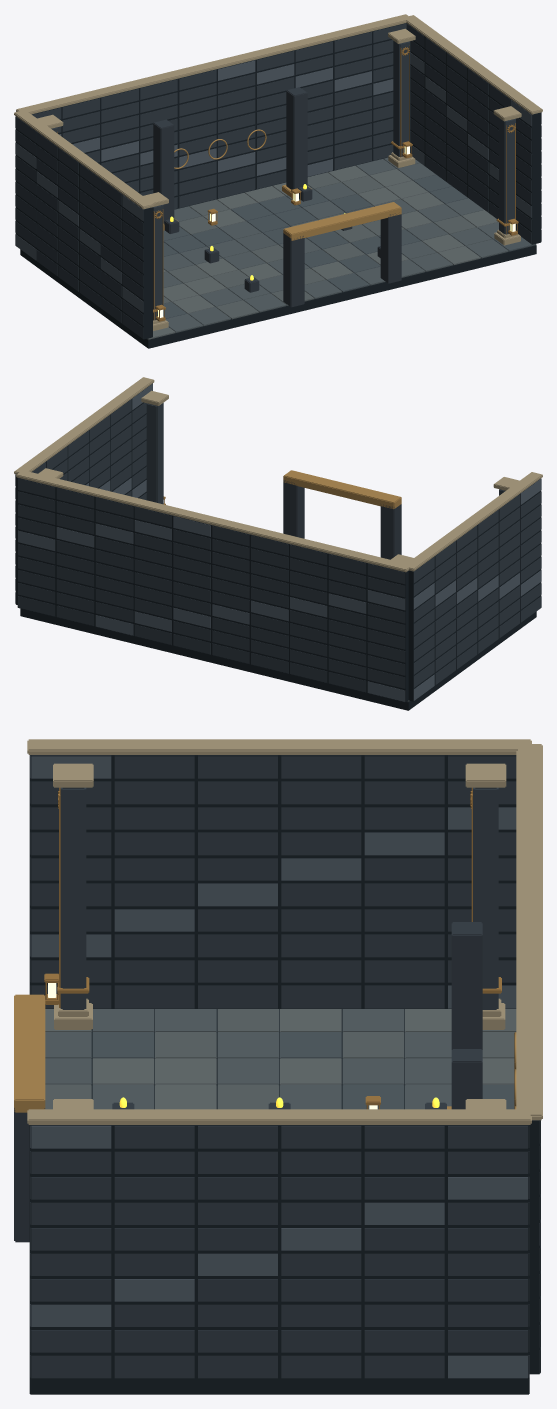
Rendered from sanctum-static-v02.glb.
3 views of the same model, one above another, from view 1: azimuth 30°, elevation 25°; view 2: azimuth 150°, elevation 25°; view 3: azimuth 270°, elevation 25° (orthographic). The views are drawn at different scales.
Visible parts, largest first — view 1: sanctum-static-v02 Basalt • charcoal, sanctum-static-v02 Recesses and grout, sanctum-static-v02 Floor stone 0, sanctum-static-v02 Ash stone • warm trim, sanctum-static-v02 Basalt • blue grey bevels, sanctum-static-v02 Floor stone 2, sanctum-static-v02 Guardian charcoal robe, sanctum-static-v02 Floor stone 3, sanctum-static-v02 Floor stone 1, sanctum-static-v02 Guardian aged bronze, sanctum-static-v02 Bronze • forged warm; view 2: sanctum-static-v02 Basalt • charcoal, sanctum-static-v02 Recesses and grout, sanctum-static-v02 Basalt • blue grey bevels, sanctum-static-v02 Ash stone • warm trim, sanctum-static-v02 Guardian charcoal robe, sanctum-static-v02 Guardian aged bronze; view 3: sanctum-static-v02 Basalt • charcoal, sanctum-static-v02 Recesses and grout, sanctum-static-v02 Ash stone • warm trim, sanctum-static-v02 Basalt • blue grey bevels, sanctum-static-v02 Floor stone 0, sanctum-static-v02 Floor stone 2, sanctum-static-v02 Floor stone 1, sanctum-static-v02 Guardian charcoal robe, sanctum-static-v02 Floor stone 3, sanctum-static-v02 Guardian aged bronze, sanctum-static-v02 Bronze • forged warm.
Part boxes in pixels (x1,y1,x2,y2): sanctum-static-v02 Basalt • charcoal: [15, 23, 541, 338]; sanctum-static-v02 Recesses and grout: [15, 23, 541, 348]; sanctum-static-v02 Floor stone 0: [163, 157, 508, 332]; sanctum-static-v02 Ash stone • warm trim: [14, 14, 542, 330]; sanctum-static-v02 Basalt • blue grey bevels: [15, 52, 541, 312]; sanctum-static-v02 Floor stone 2: [147, 165, 498, 339]; sanctum-static-v02 Guardian charcoal robe: [153, 87, 401, 307]; sanctum-static-v02 Floor stone 3: [163, 175, 536, 318]; sanctum-static-v02 Floor stone 1: [163, 172, 476, 319]; sanctum-static-v02 Guardian aged bronze: [163, 129, 401, 240]; sanctum-static-v02 Bronze • forged warm: [57, 45, 518, 321]; sanctum-static-v02 Basalt • charcoal: [15, 399, 541, 692]; sanctum-static-v02 Recesses and grout: [15, 383, 541, 710]; sanctum-static-v02 Basalt • blue grey bevels: [15, 384, 541, 701]; sanctum-static-v02 Ash stone • warm trim: [14, 377, 542, 572]; sanctum-static-v02 Guardian charcoal robe: [283, 480, 401, 559]; sanctum-static-v02 Guardian aged bronze: [283, 470, 401, 509]; sanctum-static-v02 Basalt • charcoal: [30, 755, 540, 1378]; sanctum-static-v02 Recesses and grout: [29, 755, 540, 1394]; sanctum-static-v02 Ash stone • warm trim: [27, 739, 542, 1124]; sanctum-static-v02 Basalt • blue grey bevels: [30, 755, 540, 1378]; sanctum-static-v02 Floor stone 0: [45, 1009, 451, 1109]; sanctum-static-v02 Floor stone 2: [45, 1009, 514, 1109]; sanctum-static-v02 Floor stone 1: [45, 1009, 516, 1109]; sanctum-static-v02 Guardian charcoal robe: [14, 922, 482, 1242]; sanctum-static-v02 Floor stone 3: [92, 1032, 514, 1109]; sanctum-static-v02 Guardian aged bronze: [14, 994, 516, 1112]; sanctum-static-v02 Bronze • forged warm: [44, 787, 501, 1109].
Size of the model in its own units: 28.85 by 9.91 by 16.92.
